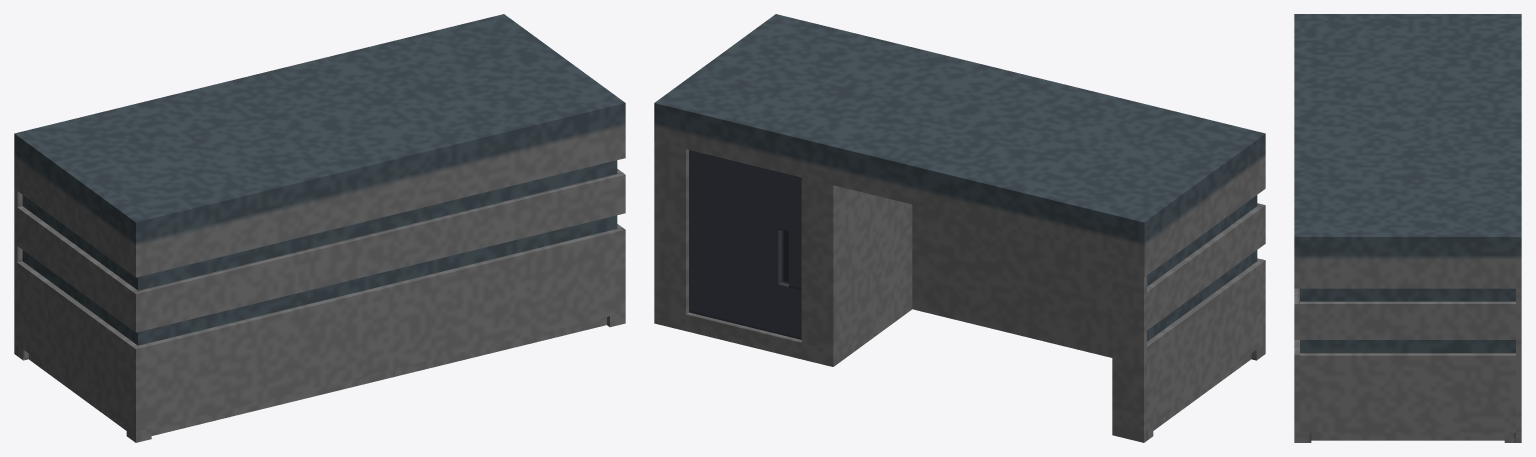
The model's file is biurko.dae.
3 views of the same model, side by side, from view 1: azimuth 30°, elevation 25°; view 2: azimuth 150°, elevation 25°; view 3: azimuth 270°, elevation 25° (orthographic). The views are drawn at different scales.
Parts seen in each view (by area): view 1: Content; view 2: Content; view 3: Content.
Part boxes in pixels (x1=…): Content: x1=14, y1=14, x2=625, y2=442; Content: x1=654, y1=14, x2=1265, y2=442; Content: x1=1294, y1=14, x2=1521, y2=442.
Size of the model in its own units: 93 by 40 by 40.
Materials: 1 (1 with a texture image).
